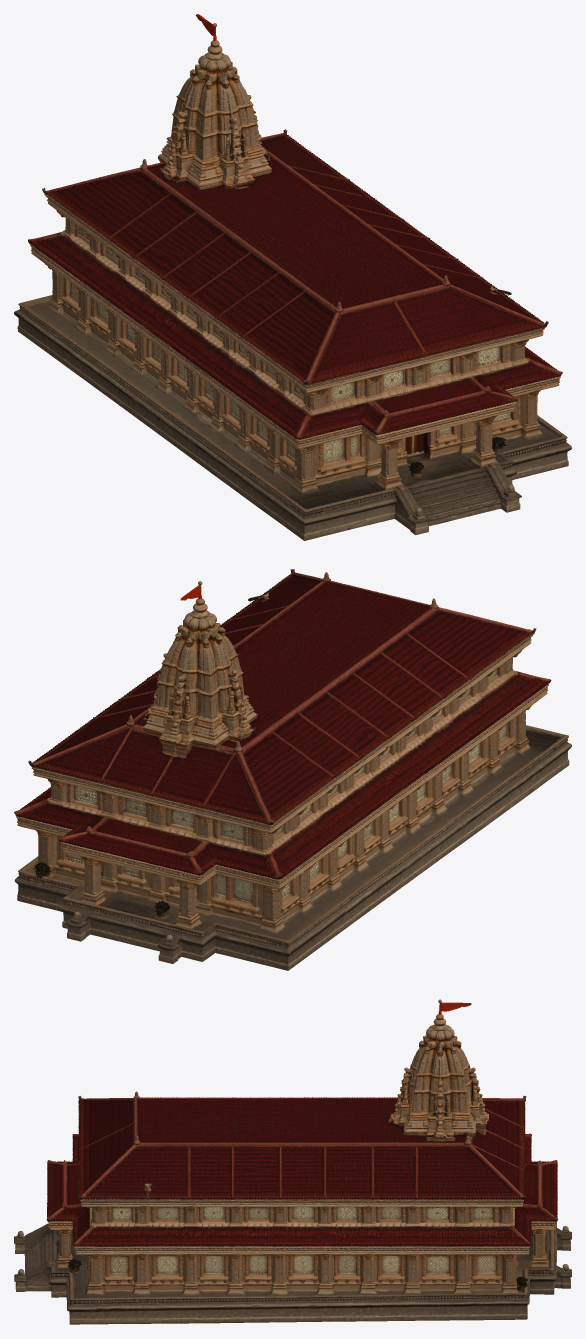
The model's file is temple-hi.glb.
3 views of the same model, one above another, from view 1: azimuth 30°, elevation 25°; view 2: azimuth 150°, elevation 25°; view 3: azimuth 270°, elevation 25° (orthographic). The views are drawn at different scales.
Parts seen in each view (by area): view 1: tripo_node_f9904ec2-4afe-4d0f-a5c2-266319d56b1a; view 2: tripo_node_f9904ec2-4afe-4d0f-a5c2-266319d56b1a; view 3: tripo_node_f9904ec2-4afe-4d0f-a5c2-266319d56b1a.
Boxes of the visible parts, x1,y1,x2,y2 form: tripo_node_f9904ec2-4afe-4d0f-a5c2-266319d56b1a: (14, 14, 571, 540); tripo_node_f9904ec2-4afe-4d0f-a5c2-266319d56b1a: (14, 569, 571, 970); tripo_node_f9904ec2-4afe-4d0f-a5c2-266319d56b1a: (14, 999, 571, 1324).
Bounding box in the file's own units: 0.488 × 0.5221 × 0.98.
1 material, 1 textured.
